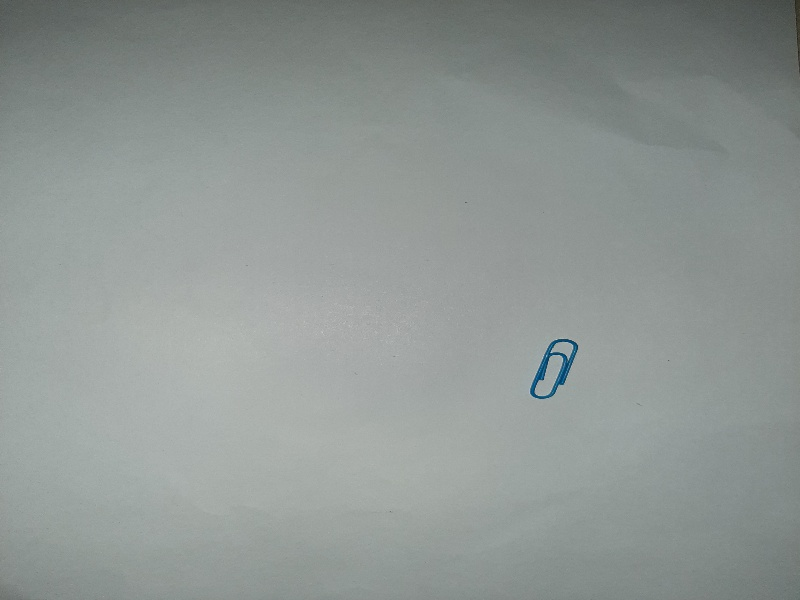Small Jumpclip: (526, 332, 595, 410)
